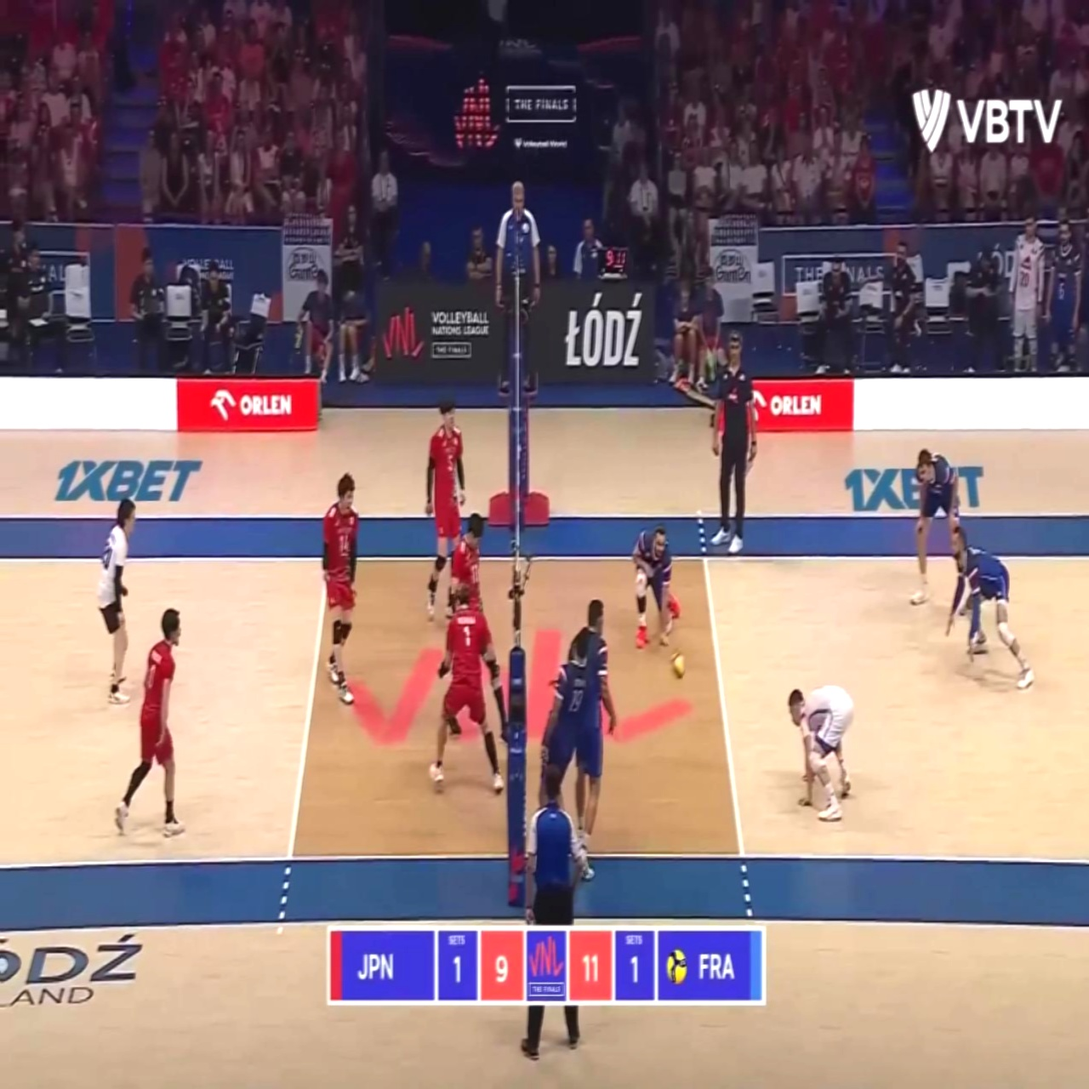ball: (671, 649, 685, 676)
